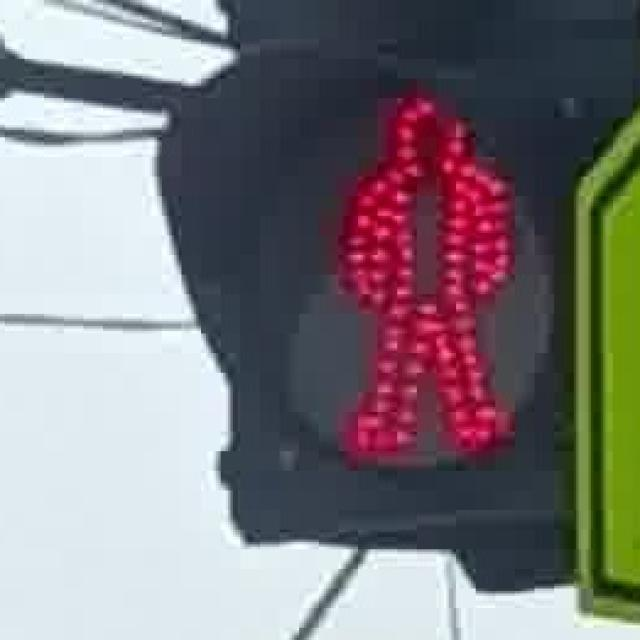red-crossing: (297, 59, 532, 478)
